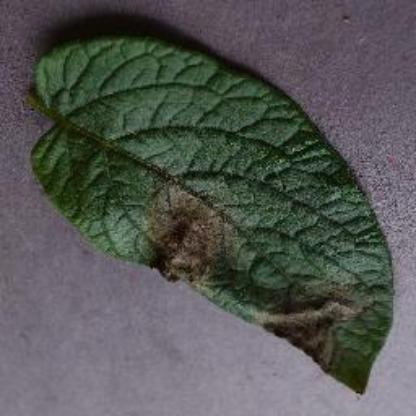Late-Blight: (21, 26, 403, 402)
